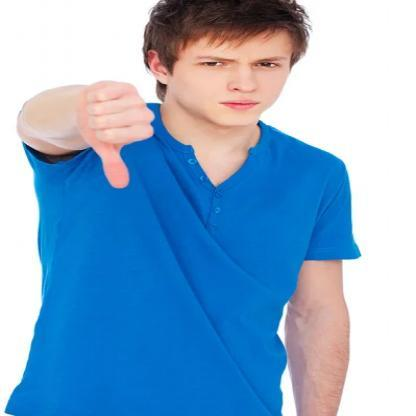thumb_down: (74, 76, 160, 191)
